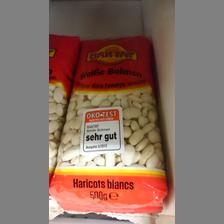Bohnen: (51, 31, 168, 215)
